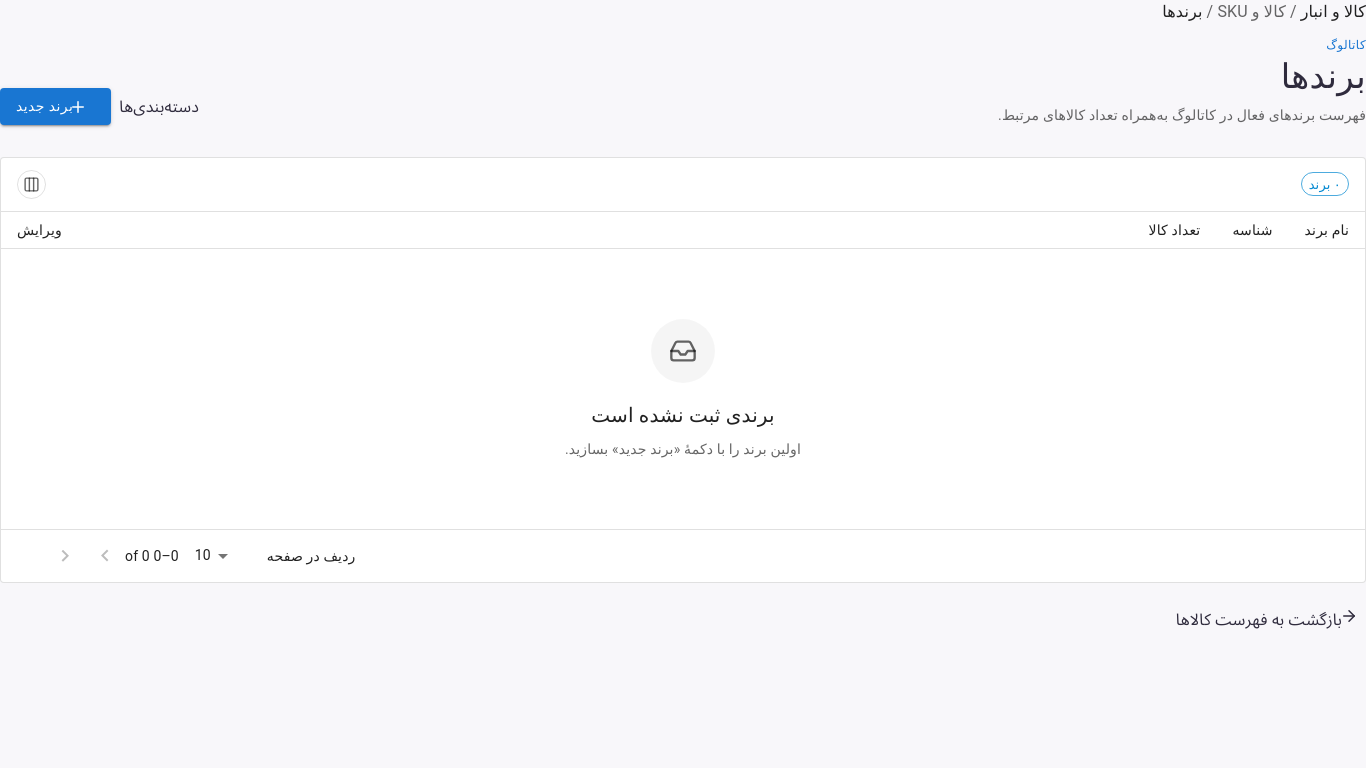
it: BrandsView › opens the create dialog from the page header
Expected: the heading "برندی ثبت نشده است" is shown, [591,399,775,431]
Click the button "برند جدید": (56, 107) [0,88,111,125]
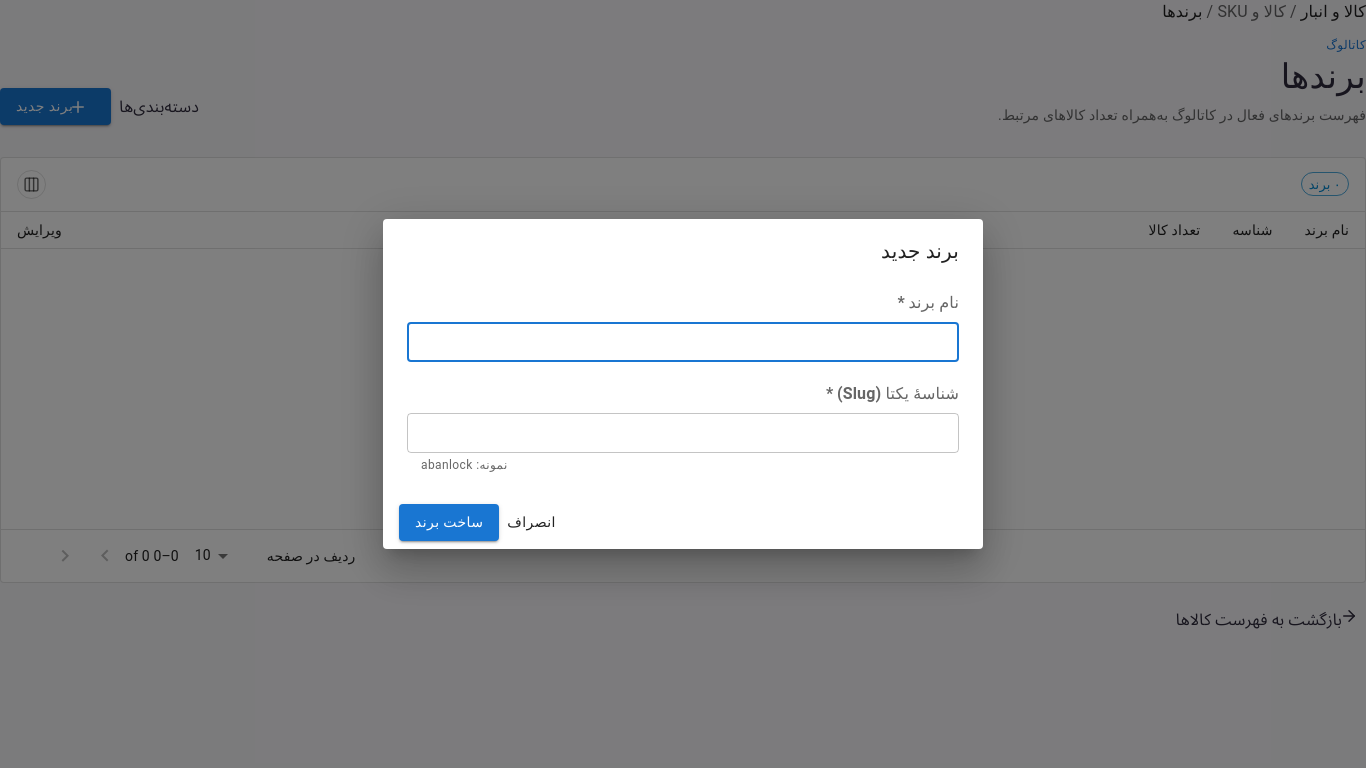
Expected: the dialog "برند جدید" is shown, [383,219,983,549]
